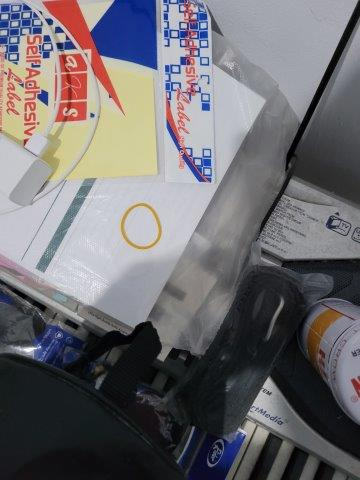karet: (119, 202, 162, 250)
